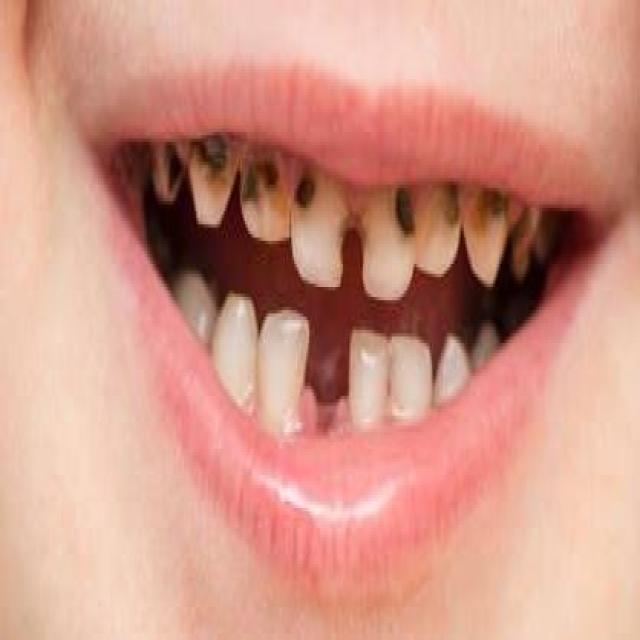caries: (185, 125, 240, 234), (464, 175, 513, 284), (237, 142, 287, 226), (331, 198, 375, 284), (285, 157, 328, 240), (381, 180, 423, 262), (146, 129, 186, 211), (431, 169, 465, 249)
